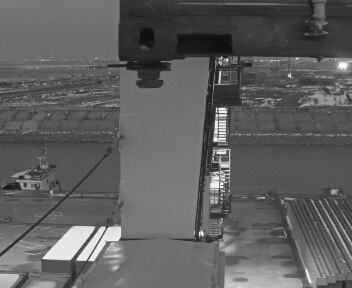twist_lock_1: (117, 53, 175, 97)
